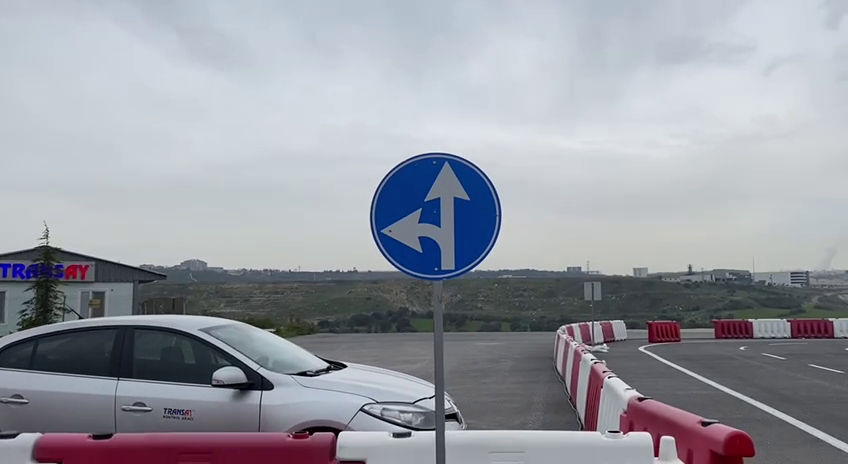forwardAndLeft: (363, 148, 503, 284)
